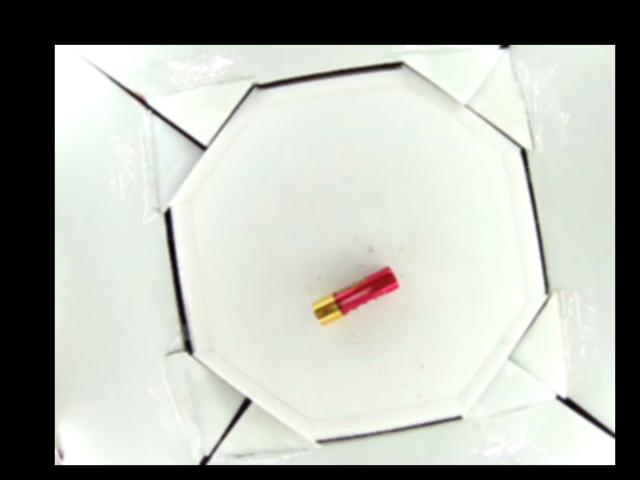Battery: (310, 264, 401, 325)
